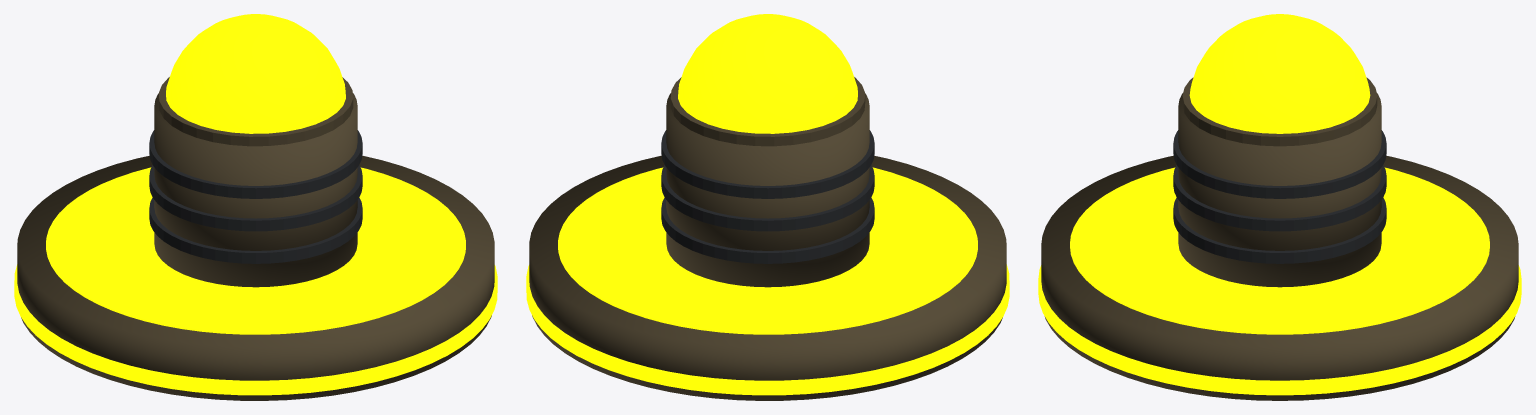
The model's file is rebatedor_cyber_colosseum_p1.glb.
The picture shows the model from 3 angles, left to right: view 1: azimuth 30°, elevation 25°; view 2: azimuth 150°, elevation 25°; view 3: azimuth 270°, elevation 25°; orthographic projection.
Parts seen in each view (by area): view 1: Cylinder.002, Cylinder, Cylinder.003, Sphere, Cylinder.001, Cylinder.006, Cylinder.004, Cylinder.005, Cylinder.007; view 2: Cylinder.002, Cylinder, Cylinder.003, Sphere, Cylinder.001, Cylinder.006, Cylinder.004, Cylinder.005, Cylinder.007; view 3: Cylinder.002, Cylinder, Cylinder.003, Sphere, Cylinder.001, Cylinder.006, Cylinder.004, Cylinder.005, Cylinder.007.
Part boxes in pixels (x1,y1,x2,y2): Cylinder.002: (46,167,465,334); Cylinder: (17,155,494,400); Cylinder.003: (154,93,357,287); Sphere: (166,14,345,133); Cylinder.001: (14,264,497,395); Cylinder.006: (149,130,362,198); Cylinder.004: (149,197,362,263); Cylinder.005: (149,165,362,231); Cylinder.007: (158,77,353,146); Cylinder.002: (558,167,977,334); Cylinder: (529,155,1006,400); Cylinder.003: (666,93,869,287); Sphere: (678,14,857,133); Cylinder.001: (526,264,1009,395); Cylinder.006: (661,130,874,198); Cylinder.004: (661,197,874,263); Cylinder.005: (661,165,874,231); Cylinder.007: (670,77,865,146); Cylinder.002: (1070,167,1489,334); Cylinder: (1041,155,1518,400); Cylinder.003: (1178,93,1381,287); Sphere: (1189,14,1370,133); Cylinder.001: (1038,265,1521,395); Cylinder.006: (1173,130,1386,198); Cylinder.004: (1173,197,1386,263); Cylinder.005: (1173,165,1386,231); Cylinder.007: (1182,77,1377,146).
Bounding box in the file's own units: 0.1619 × 0.1032 × 0.1619.
